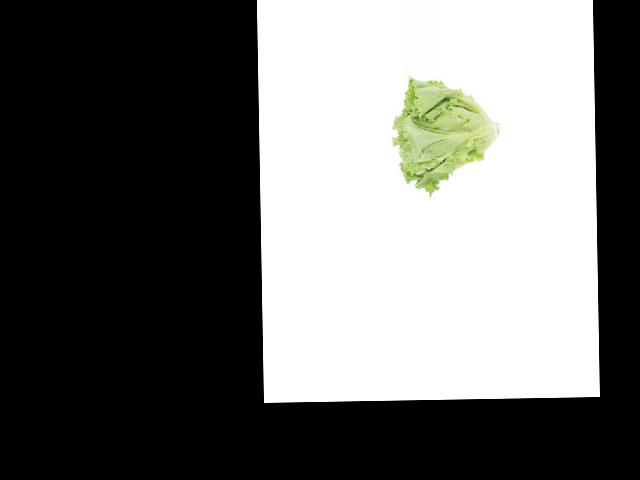lettuce: (397, 79, 490, 188)
